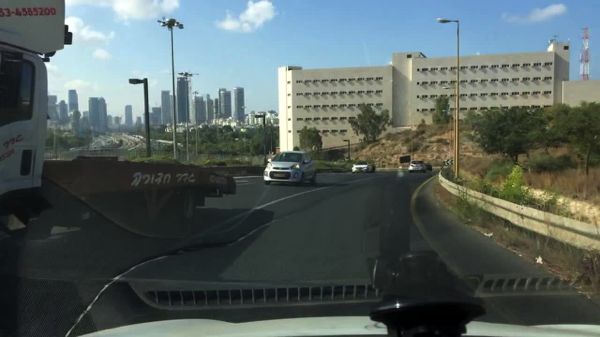car: (263, 150, 316, 187), (351, 161, 375, 174), (408, 160, 426, 174), (423, 162, 433, 172)
truck: (0, 0, 237, 243)
